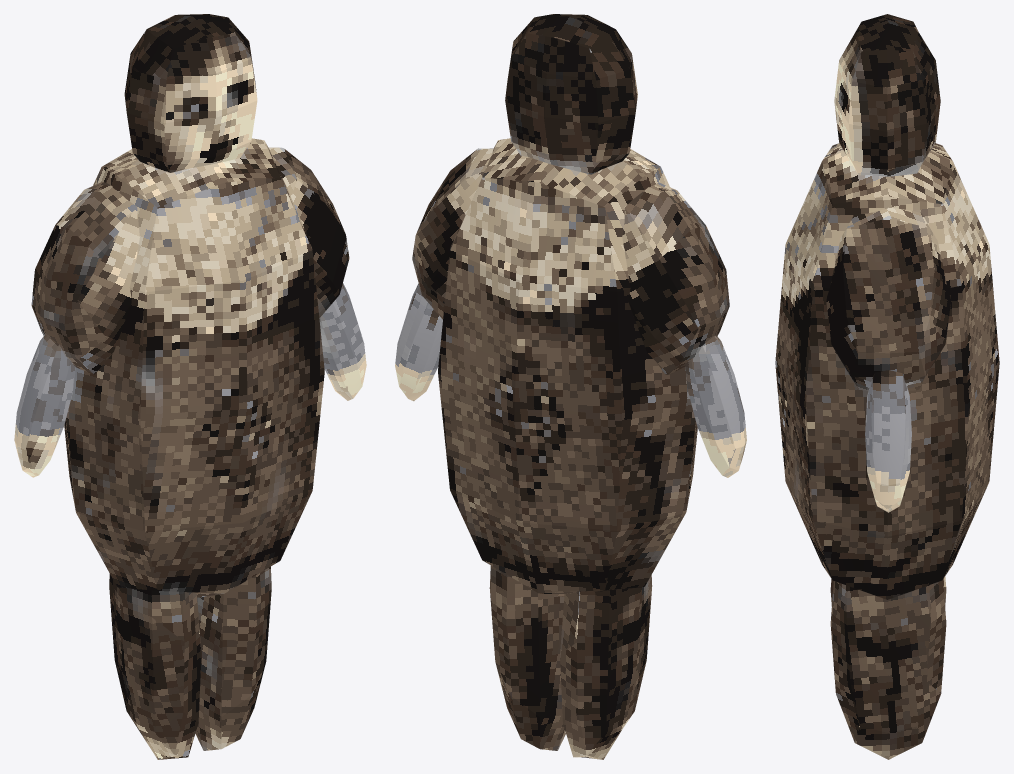
Rendered from Doll_1.gltf.
The picture shows the model from 3 angles, left to right: view 1: azimuth 30°, elevation 25°; view 2: azimuth 150°, elevation 25°; view 3: azimuth 270°, elevation 25°; orthographic projection.
Visible parts, largest first — view 1: Doll_1; view 2: Doll_1; view 3: Doll_1.
Part boxes in pixels (x1,y1,x2,y2): Doll_1: (14,14,366,759); Doll_1: (395,14,746,759); Doll_1: (775,14,999,759).
Size of the model in its own units: 1.45 by 2.96 by 0.8296.
1 material, 1 textured.
